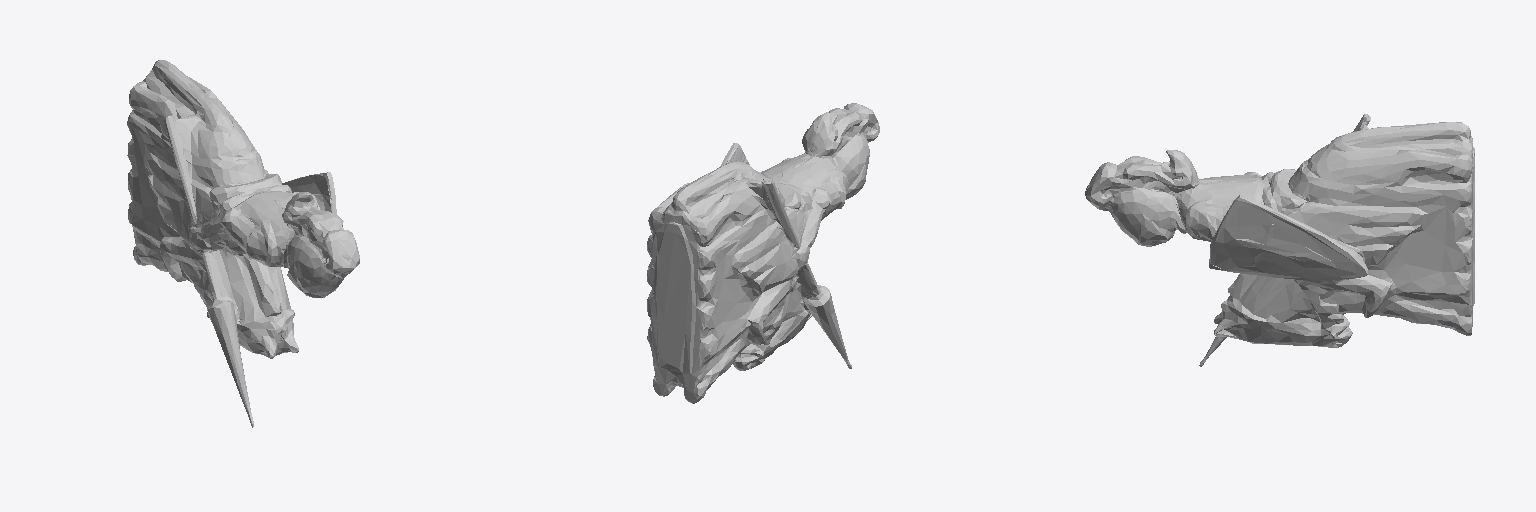
The model's file is modelf.obj.
The picture shows the model from 3 angles: view 1: azimuth 30°, elevation 25°; view 2: azimuth 150°, elevation 25°; view 3: azimuth 270°, elevation 25°; orthographic projection.
Visible parts, largest first — view 1: mmGroup0; view 2: mmGroup0; view 3: mmGroup0.
Boxes of the visible parts, x1,y1,x2,y2 form: mmGroup0: [127, 60, 359, 427]; mmGroup0: [647, 103, 879, 403]; mmGroup0: [1085, 114, 1474, 366].
Size of the model in its own units: 3.13 by 7.2 by 9.66.